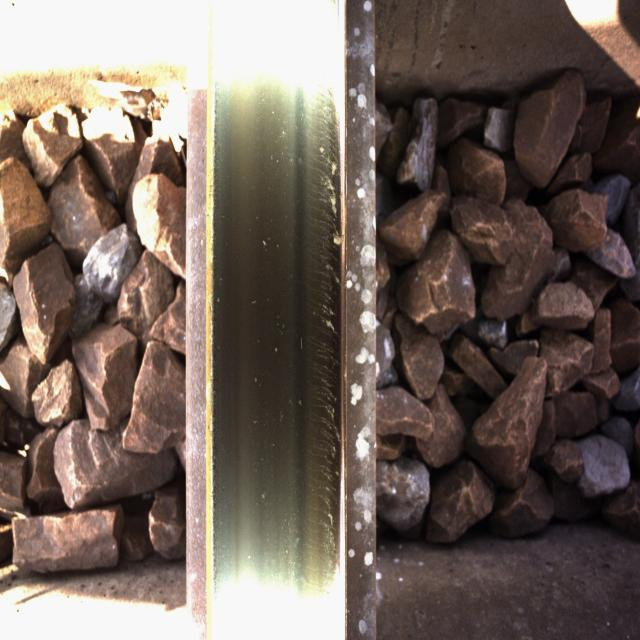normal: (216, 62, 345, 624)
